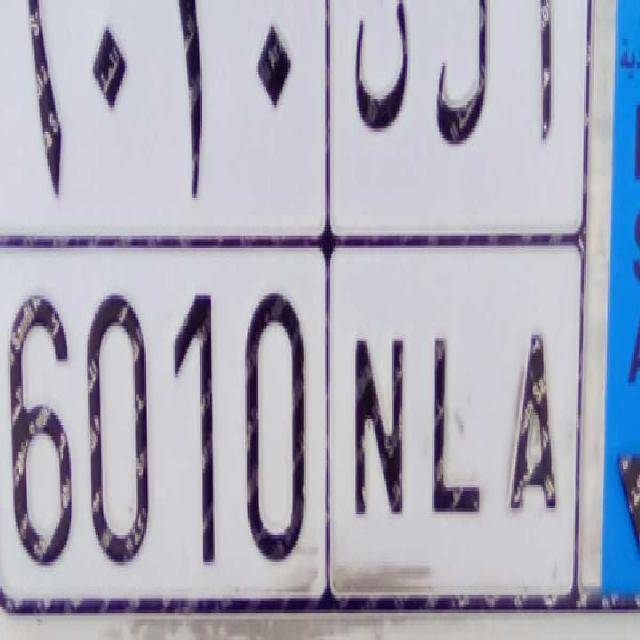license_plate: (0, 238, 583, 609)
